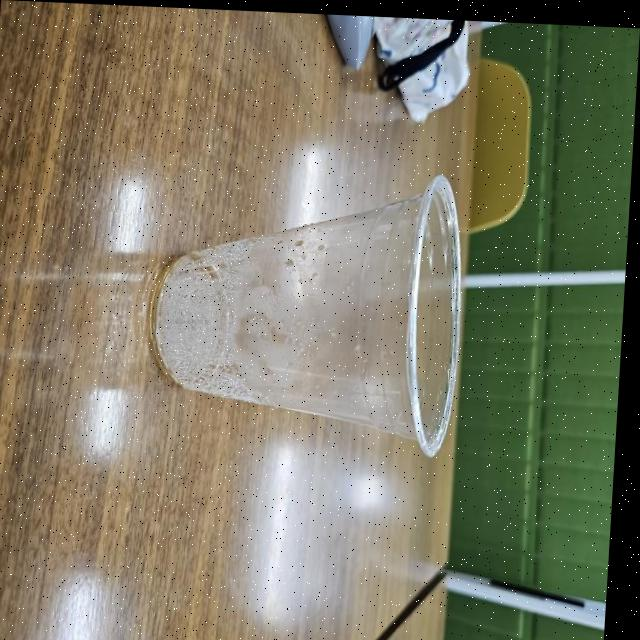cup: (147, 155, 470, 457)
